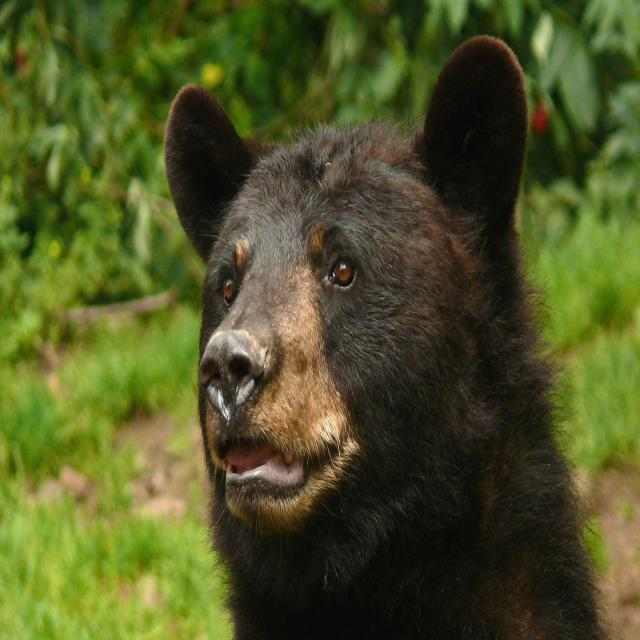Bear: (162, 36, 608, 640)
